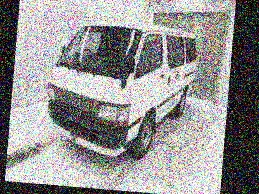van: (40, 13, 203, 161)
